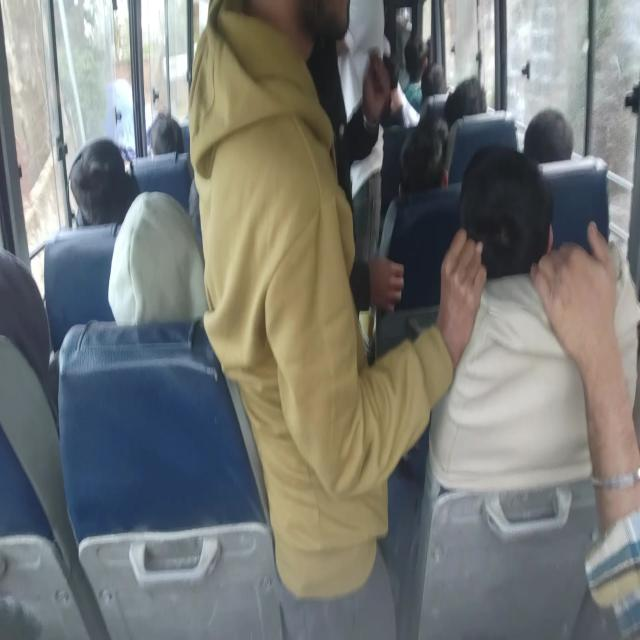person: (0, 257, 110, 633), (469, 156, 549, 472), (193, 3, 327, 168), (112, 199, 198, 381), (435, 76, 496, 177), (152, 110, 198, 236), (71, 144, 131, 222), (399, 112, 448, 192), (522, 108, 573, 168), (379, 123, 407, 229), (375, 47, 406, 129), (402, 32, 432, 114), (148, 113, 184, 157)
